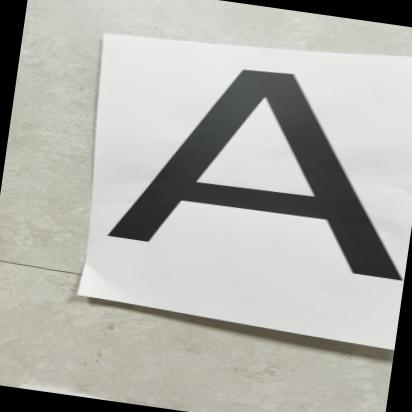seat: (99, 45, 412, 324)
